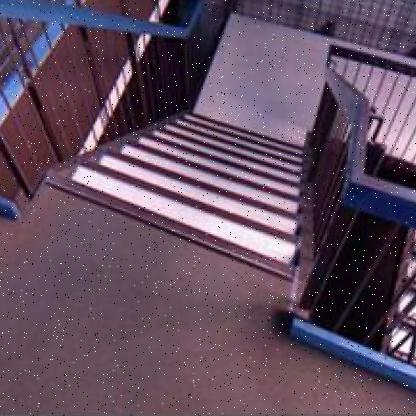stair_down: (55, 116, 295, 267)
